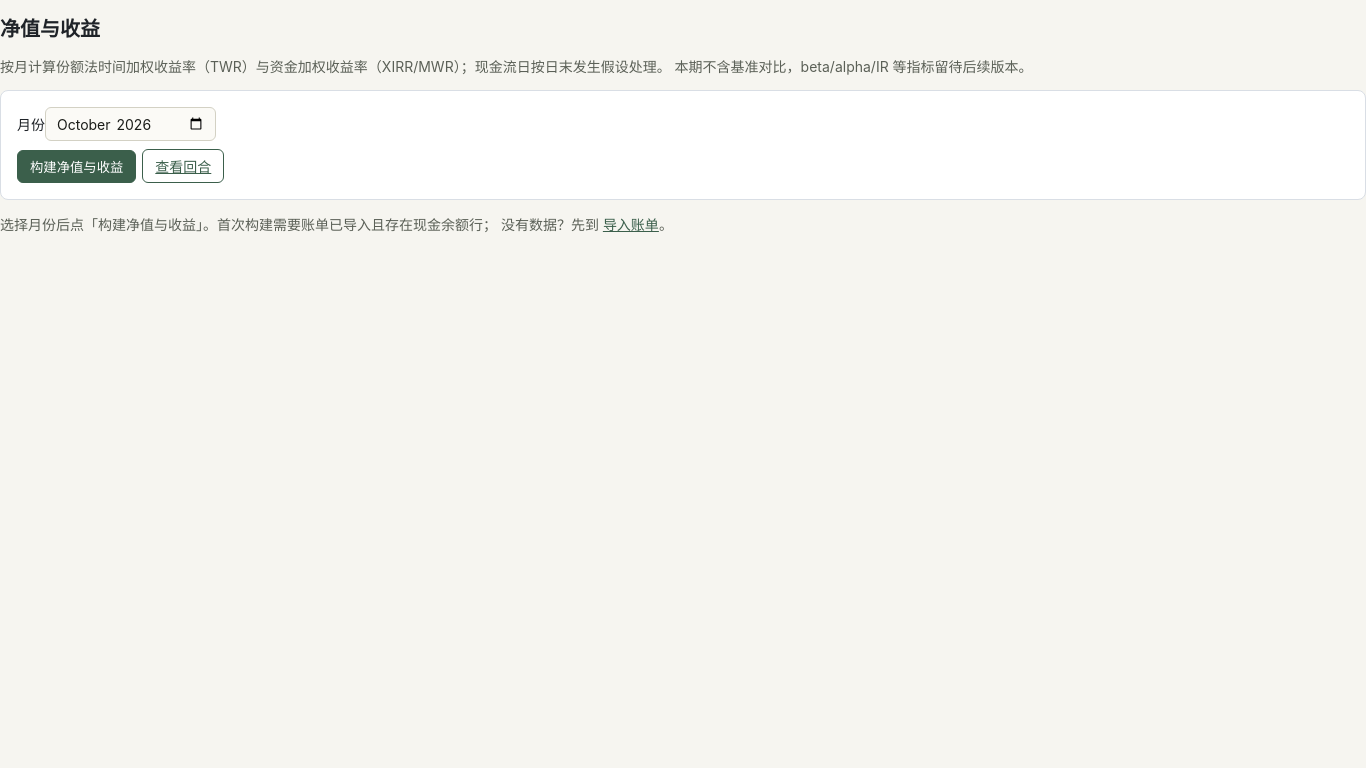
Scenario: Nav 净值与收益页 › 降级状态给出排查提示
This screenshot has width=1366, height=768.
Step 1. Click the button "构建净值与收益" → (77, 166), box left=17, top=150, right=136, bottom=183
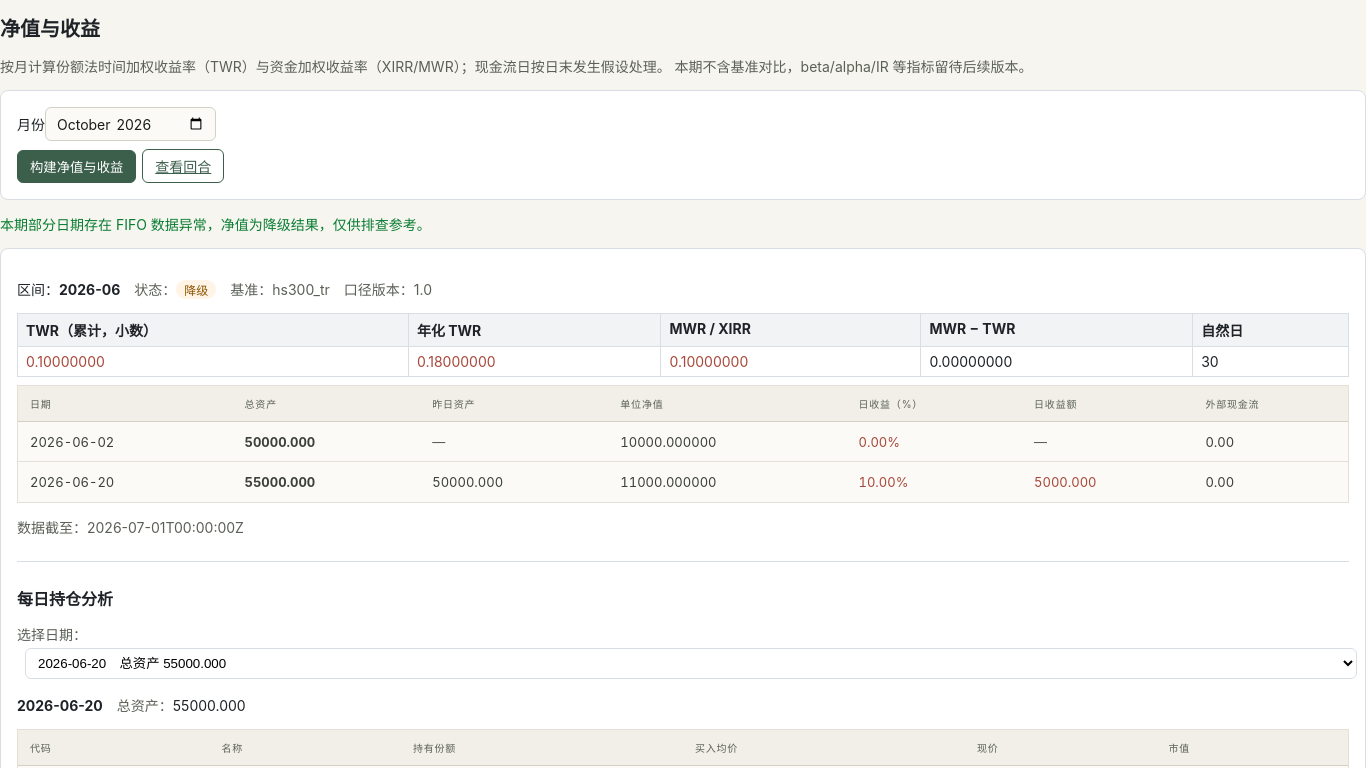
Result: the text "本期部分日期存在 FIFO 数据异常，净值为降级结果，仅供排查参考。" is shown at left=0, top=216, right=431, bottom=233
